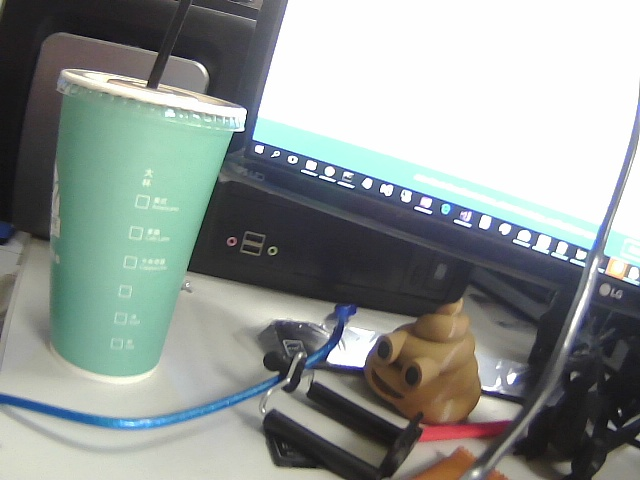beverage: (45, 1, 251, 391)
